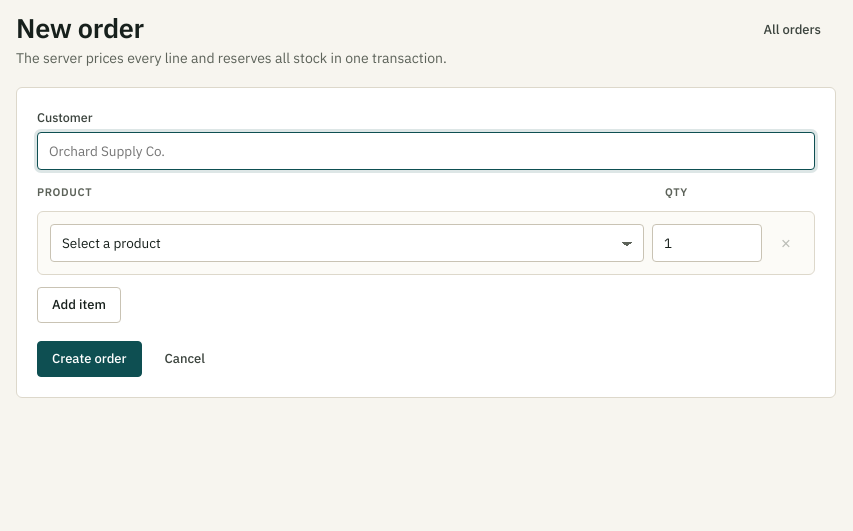
Scenario: CreateOrderPage › shows the server validation details on the row that failed
Select "CHR-001 Ergotec Ergonomic Chair (3 in stock)" in the dropdown named "Product for item 1" at (347, 243), box [50,224,644,262]
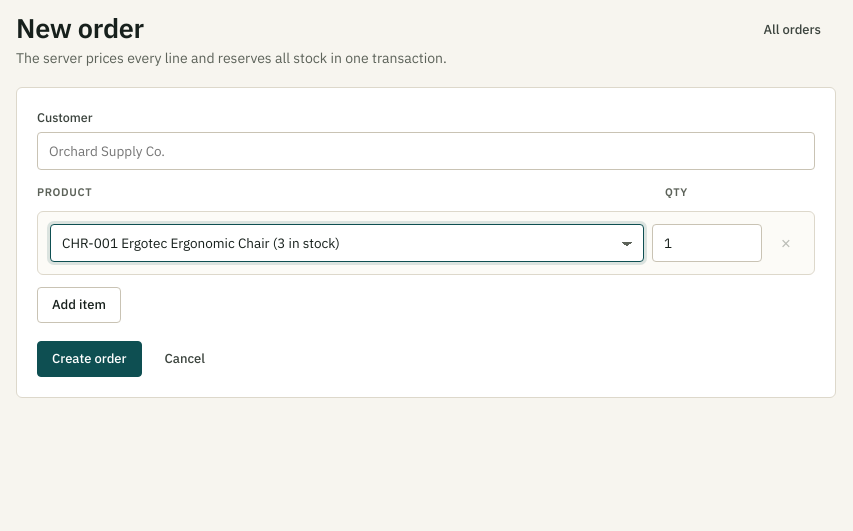
Type "Katong Components" into the field labelled "Customer" at (426, 151), box [37,132,815,170]
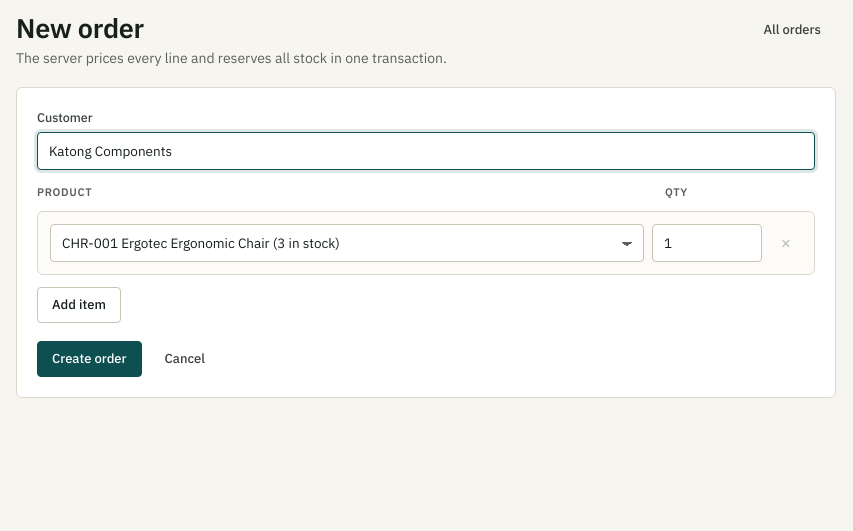
Click the button "Create order" at (89, 359), box [37,341,142,377]
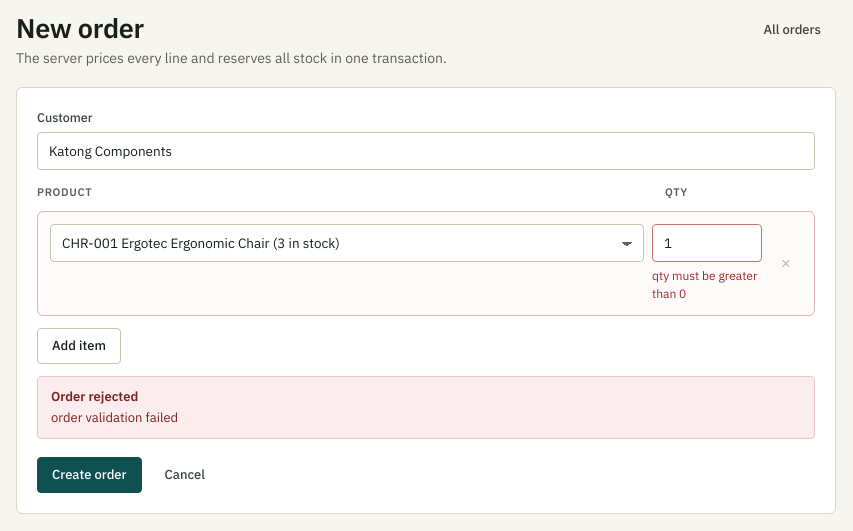
Expected: the text "qty must be greater than 0" is shown, [652,267,762,303]
